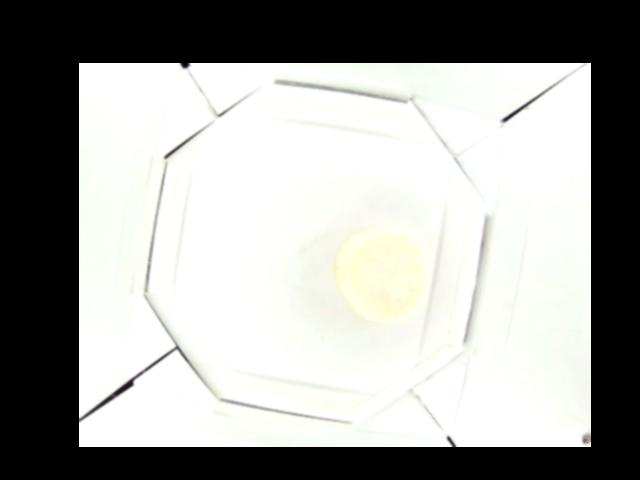Mooli: (335, 230, 429, 321)
